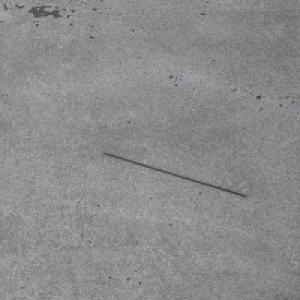LuggagePart: (101, 152, 247, 197)
